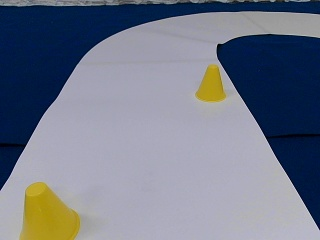cone: (19, 182, 80, 238), (195, 64, 225, 101)
